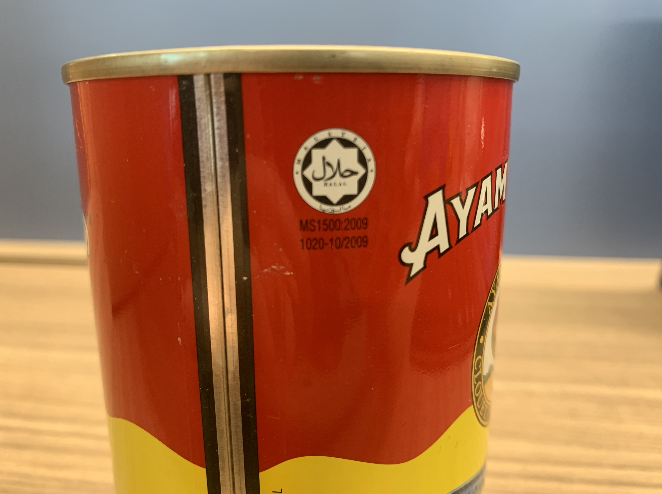halal: (307, 141, 364, 204)
